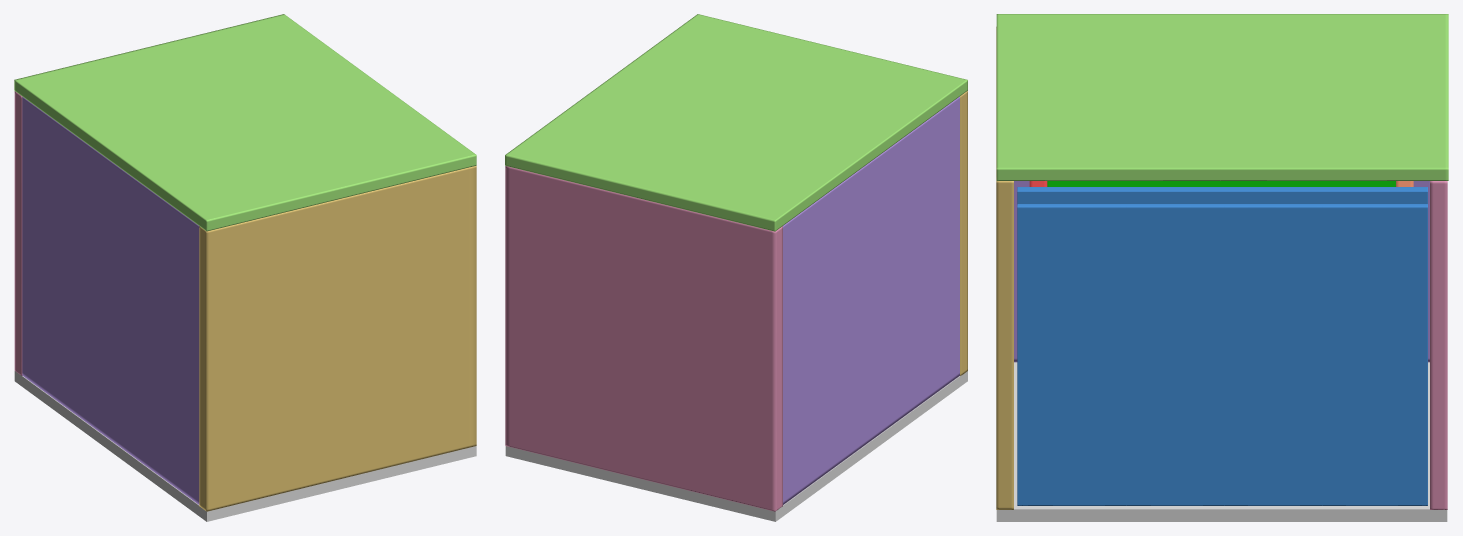
The model's file is DrawerCabinetUpdated.glb.
3 views of the same model, side by side, from view 1: azimuth 30°, elevation 25°; view 2: azimuth 150°, elevation 25°; view 3: azimuth 270°, elevation 25° (orthographic). The views are drawn at different scales.
Parts seen in each view (by area): view 1: left plank.003, top plank.003, back plank.003, bottom plank.003, right plank.003; view 2: right plank.003, top plank.003, back plank.003, bottom plank.003, left plank.003; view 3: drawer back.001, top plank.003, bottom plank.003, left plank.003, right plank.003, drawer back, back plank.003.
Boxes of the visible parts, x1,y1,x2,y2 form: left plank.003: [199, 165, 476, 511]; top plank.003: [14, 14, 476, 231]; back plank.003: [22, 96, 199, 504]; bottom plank.003: [14, 371, 476, 521]; right plank.003: [14, 91, 22, 375]; right plank.003: [505, 166, 782, 511]; top plank.003: [505, 14, 967, 231]; back plank.003: [783, 96, 959, 504]; bottom plank.003: [505, 371, 967, 521]; left plank.003: [960, 91, 967, 375]; drawer back.001: [1017, 187, 1427, 505]; top plank.003: [996, 14, 1448, 180]; bottom plank.003: [996, 362, 1447, 521]; left plank.003: [996, 27, 1013, 509]; right plank.003: [1430, 181, 1447, 509]; drawer back: [1047, 181, 1395, 186]; back plank.003: [1014, 181, 1429, 362].
Bounding box in the file's own units: 1.26 × 1.34 × 1.55.
